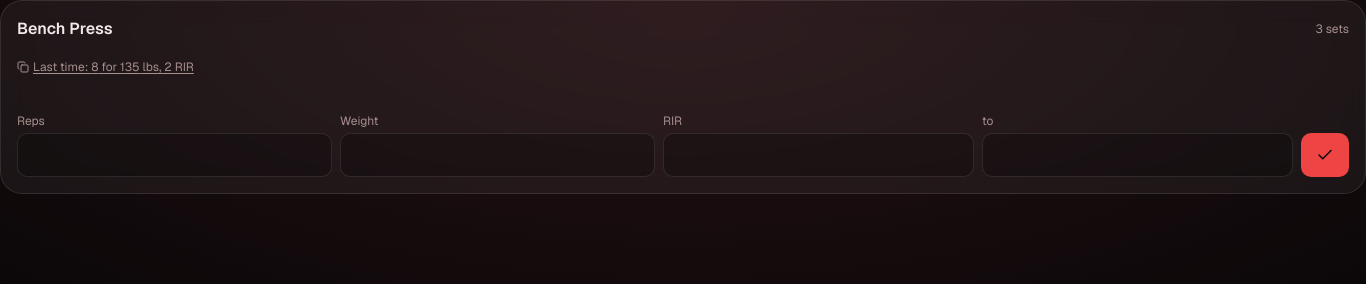
ExerciseLogCard quick fill › does not clobber a value the user already typed
Type "999" into the field labelled "Weight". click: x=498, y=155
box: [340, 133, 655, 177]
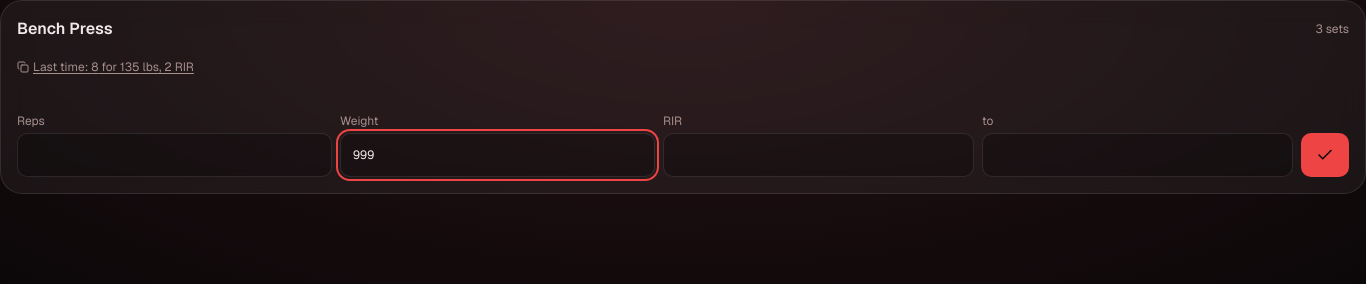
Click the button with aria-label "fill set 1". click: x=105, y=67
box: [17, 45, 194, 89]
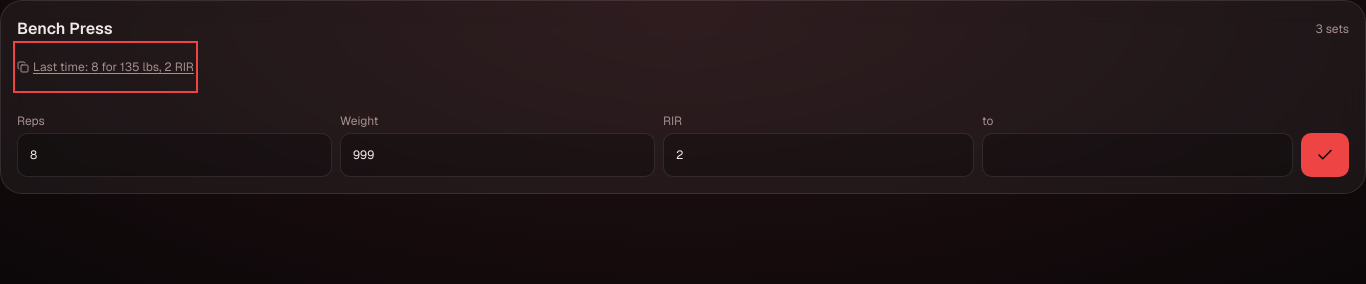
Expected: the field labelled "Reps" holds "8", [17, 133, 332, 177]
